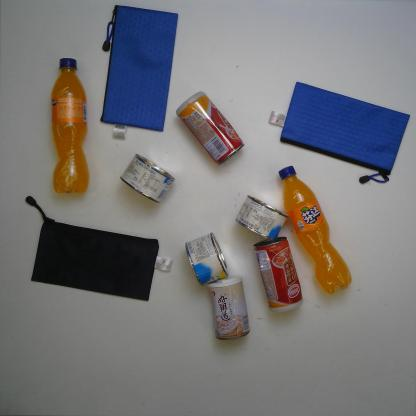Canned Food: (176, 89, 246, 166), (253, 235, 303, 314), (206, 274, 251, 341), (119, 152, 176, 202), (234, 194, 290, 243), (185, 232, 230, 289)
Drink: (278, 163, 352, 297), (51, 57, 90, 195)
Stationery: (25, 195, 174, 301), (267, 81, 412, 184), (100, 4, 180, 140)
